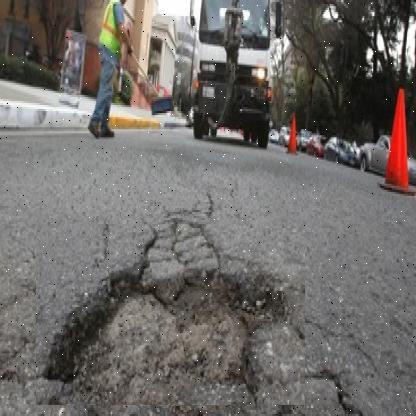pothole: (36, 218, 306, 406)
